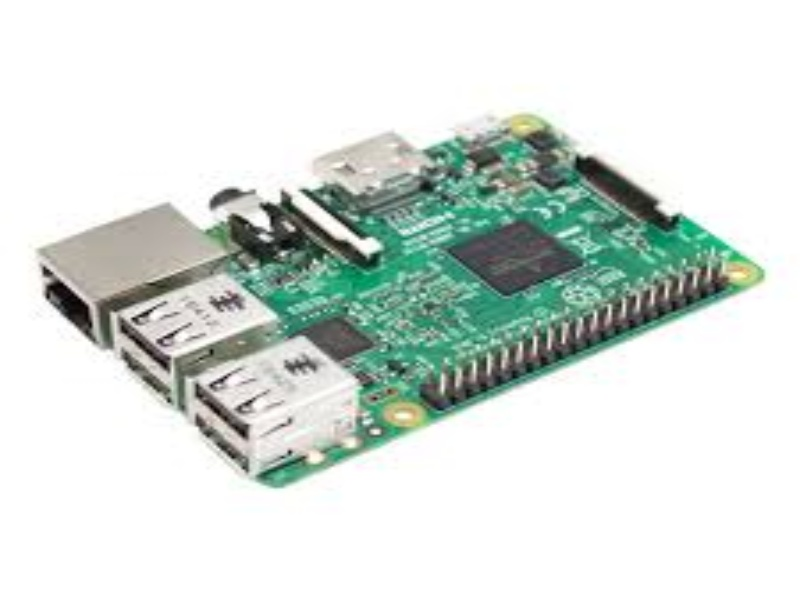raspberrypi: (13, 110, 778, 425)
